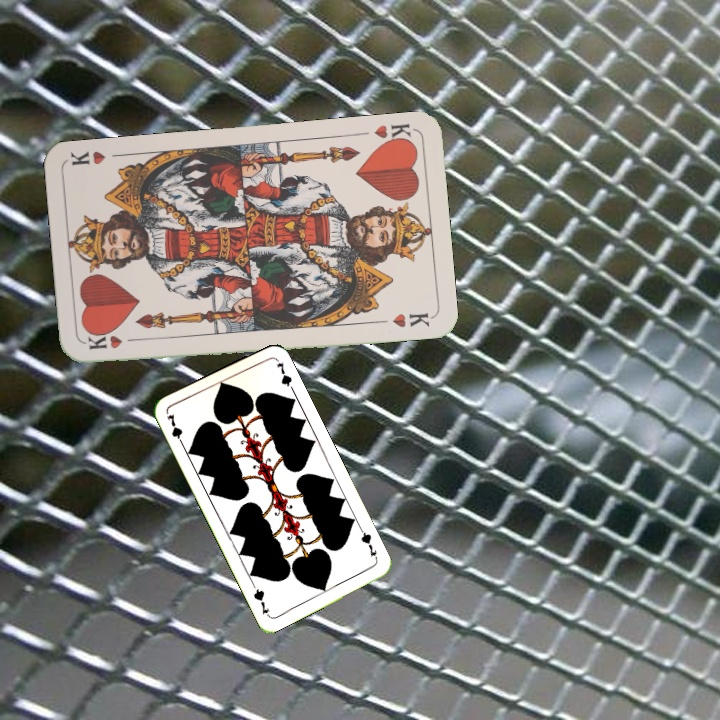G7: (163, 410, 187, 449), (357, 525, 379, 560)
HK: (83, 331, 143, 353), (371, 119, 416, 148)
